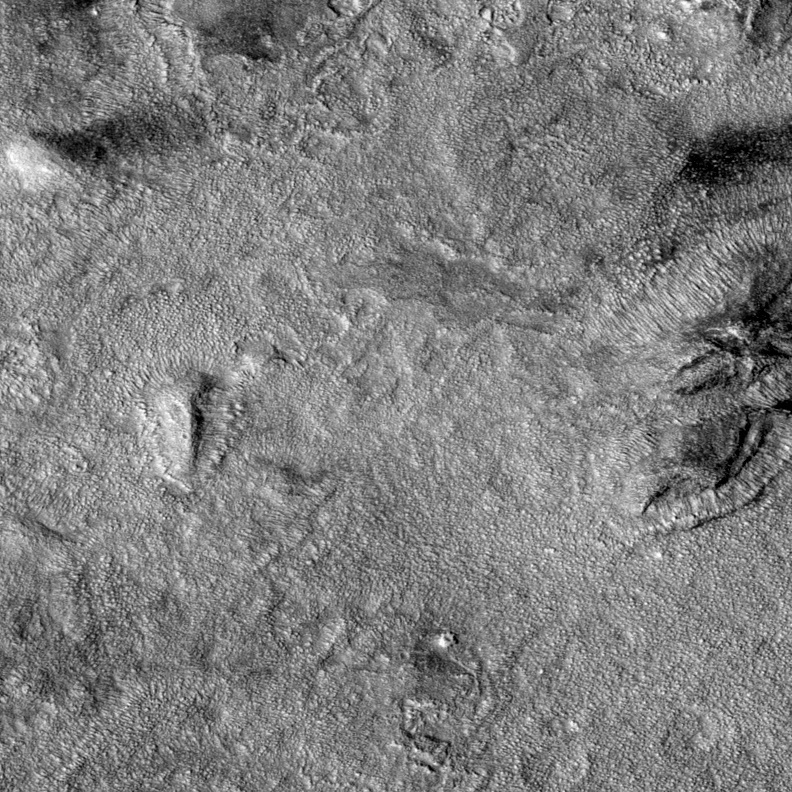dust_devil: (5, 94, 208, 194)
